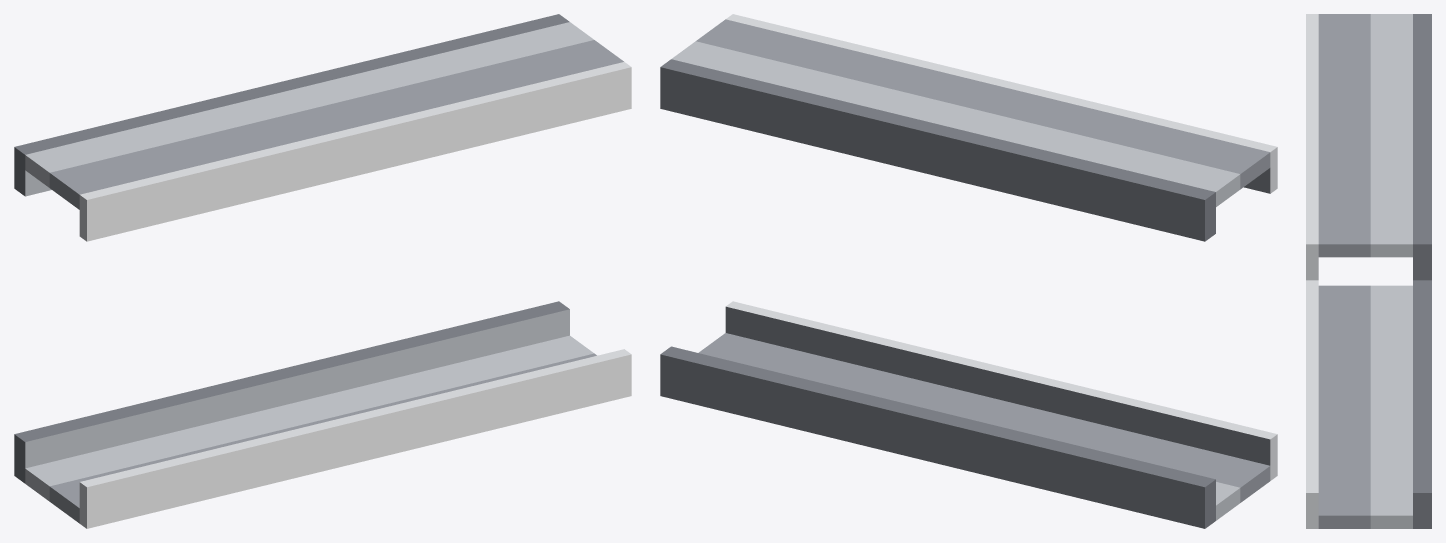
Rendered from station-lrt.gltf.
3 renders of one model, left to right at view 1: azimuth 30°, elevation 25°; view 2: azimuth 150°, elevation 25°; view 3: azimuth 270°, elevation 25°, orthographic. The views are drawn at different scales.
Parts seen in each view (by area): view 1: station-lrt; view 2: station-lrt; view 3: station-lrt.
Part boxes in pixels (x1,y1,x2,y2): station-lrt: (14, 14, 631, 528); station-lrt: (660, 14, 1277, 528); station-lrt: (1306, 14, 1431, 528).
Bounding box in the file's own units: 26 × 15 × 6.
1 material, 1 textured.
